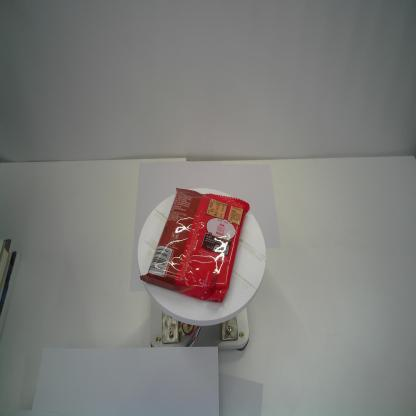Dessert: (140, 187, 250, 304)
